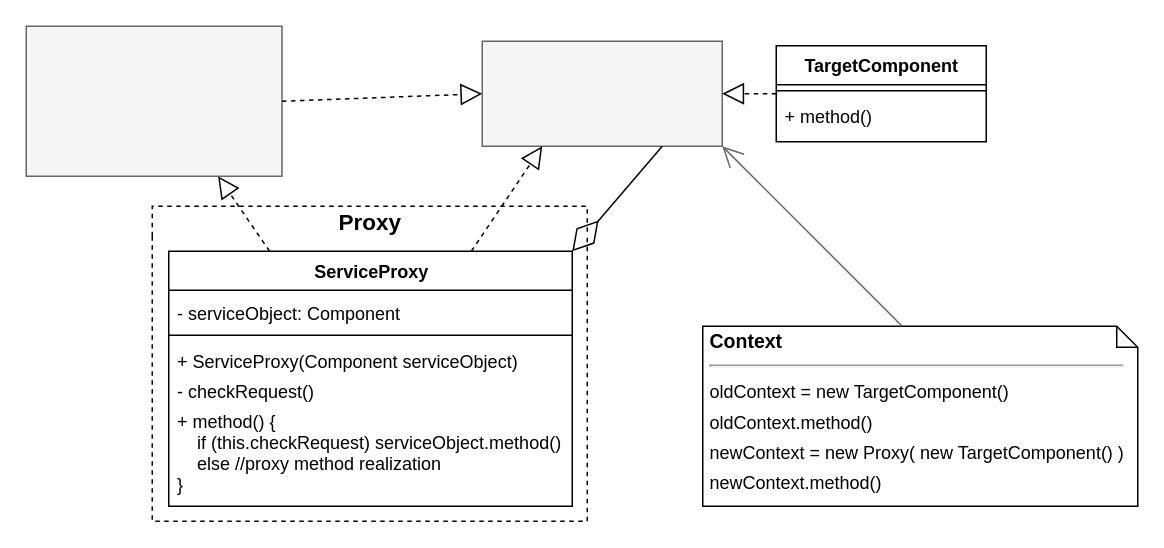
Some shapes in this 1164 by 548 pixel diagram are drawn without their labels. Here are the shapes that lost their labels. From the top down, the centre of each, then its label:
the point at 153,100: <<Interface>> ComponentProxy # serviceObject: Component - checkRequest()
the point at 601,93: <<Interface>> Component + method()
